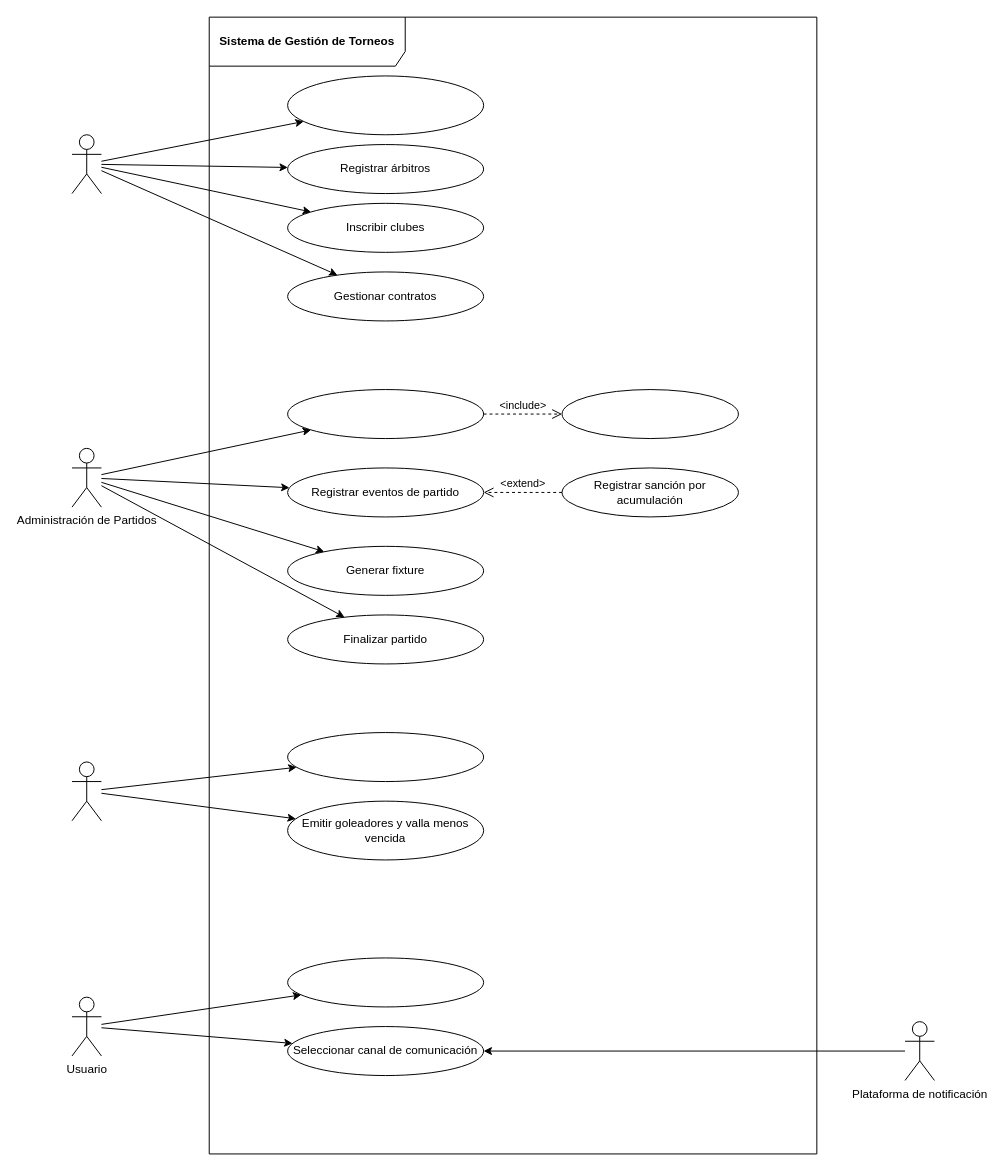
This 1005x1171 diagram has some shape labels left out. The centre of each missing label's shape, as x and y in pixels:
"Administración de Gestión" goes at point 86,164.
"Analista de Estadísticas" goes at point 86,791.
"Asignar árbitros" goes at point 649,414.
"Configurar club favorito" goes at point 385,982.
"Emitir tabla posiciones" goes at point 385,757.
"Programar partidos" goes at point 385,414.
"Registrar club con plantel y cuerpo técnico" goes at point 385,105.
